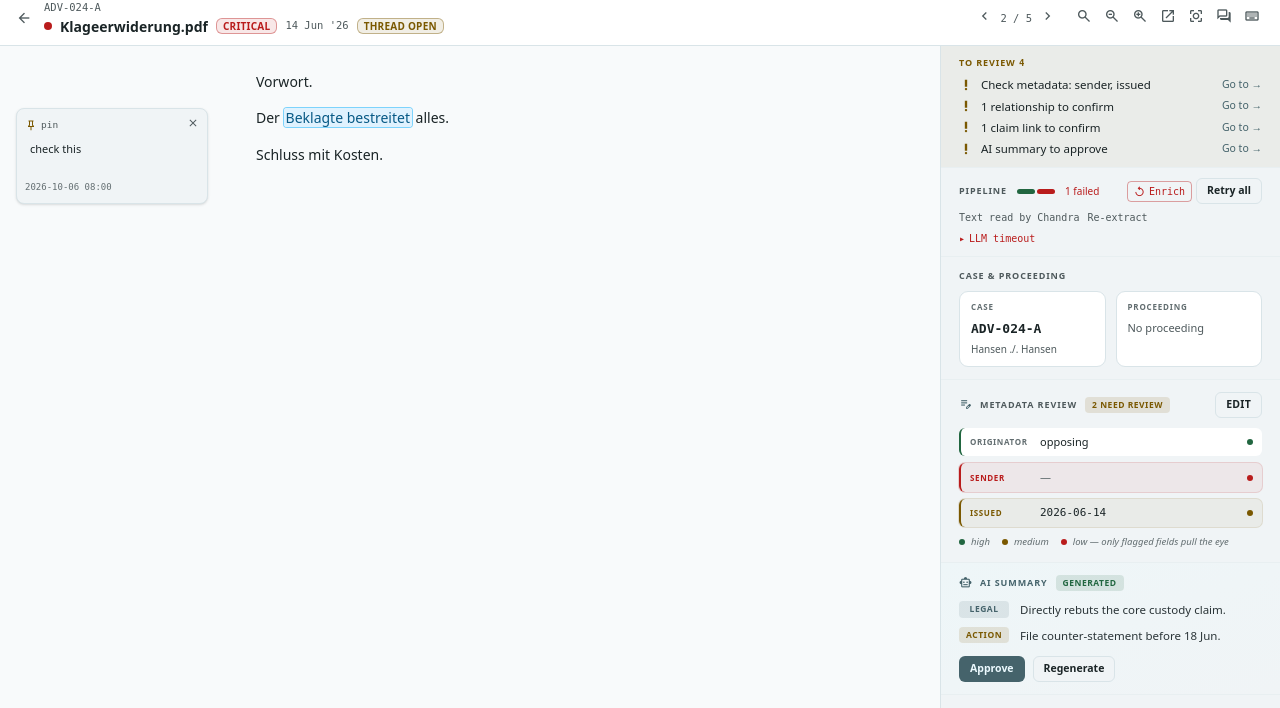
it: clicking a highlight selects its spine row; a pin can be added and removed
This screenshot has width=1280, height=708.
Click the text "Beklagte bestreitet" at coordinates (348, 118), box [284,108,412,127]
(page scrolled)
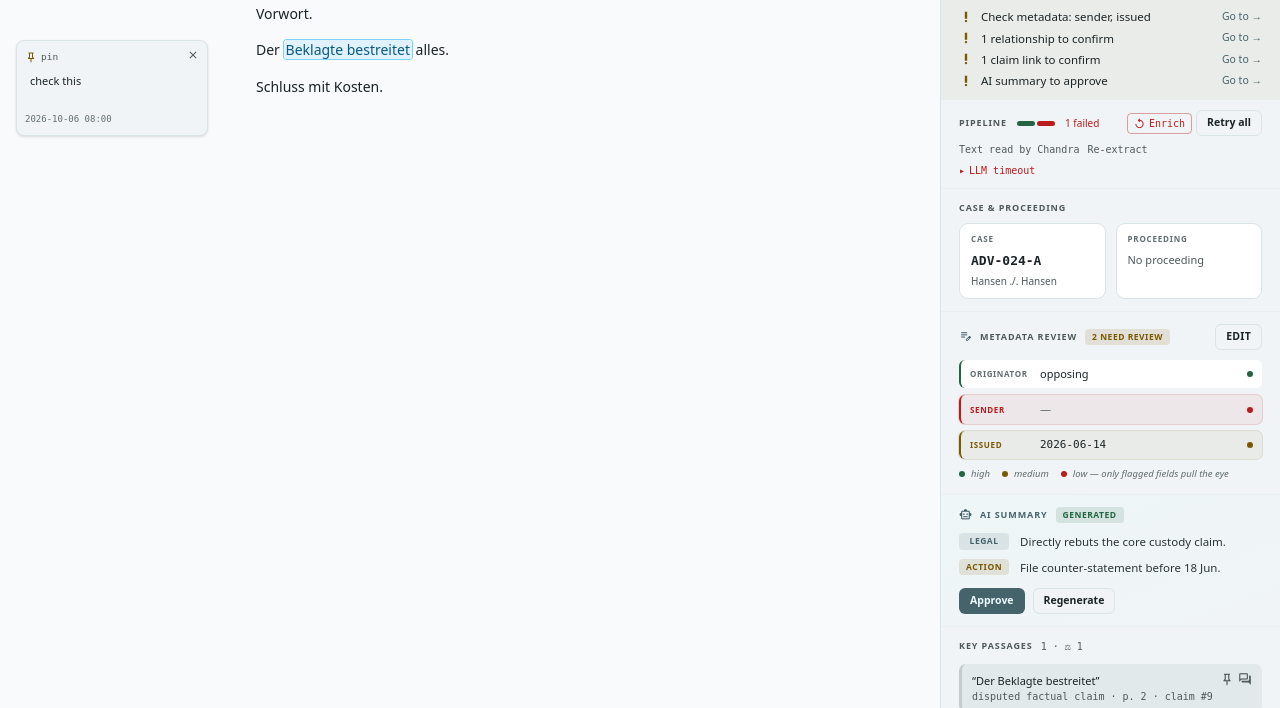
Expected: the button "Der Beklagte bestreitet" is marked as current, [972,672,1216,704]
Click the button named "Pin this passage" at coordinates (1227, 681), box [1220,672,1234,690]
(page scrolled)
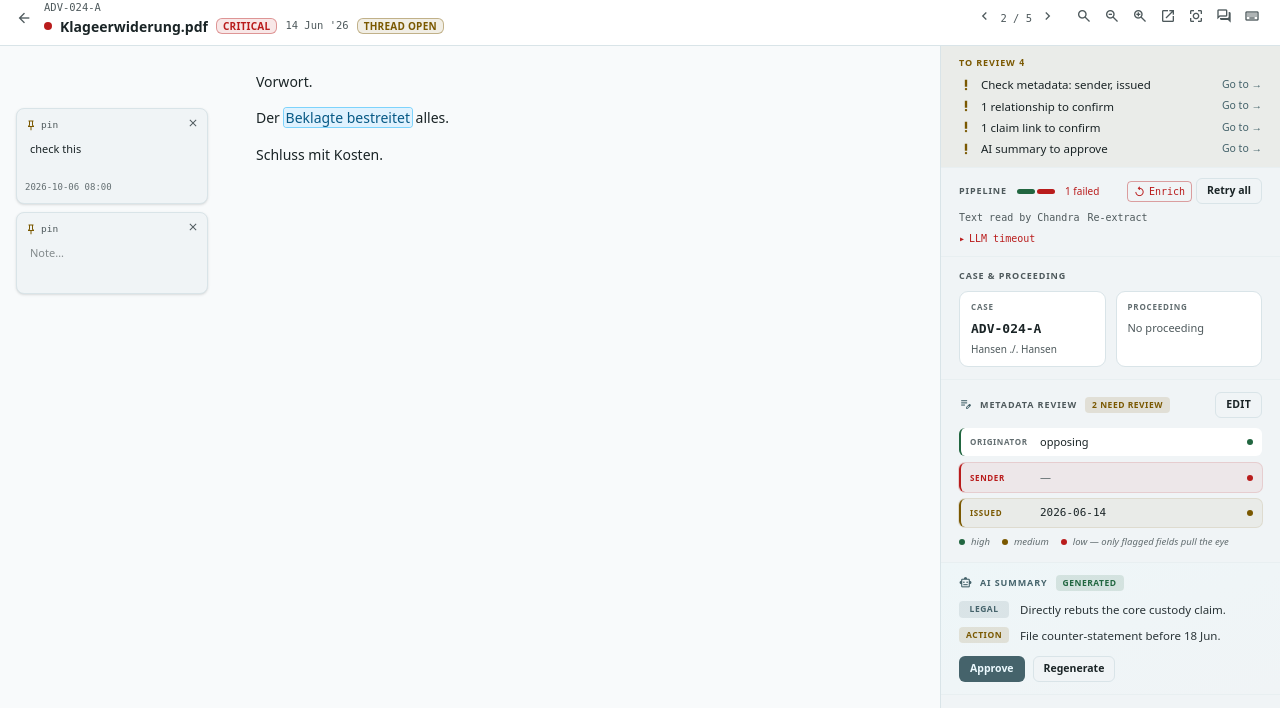
Expected: the number of text boxes named "Pin note" is 2, [25,138,199,177]; [25,242,199,281]
Click the 1st button named "Delete pin" at coordinates (193, 125), box [187,117,199,134]
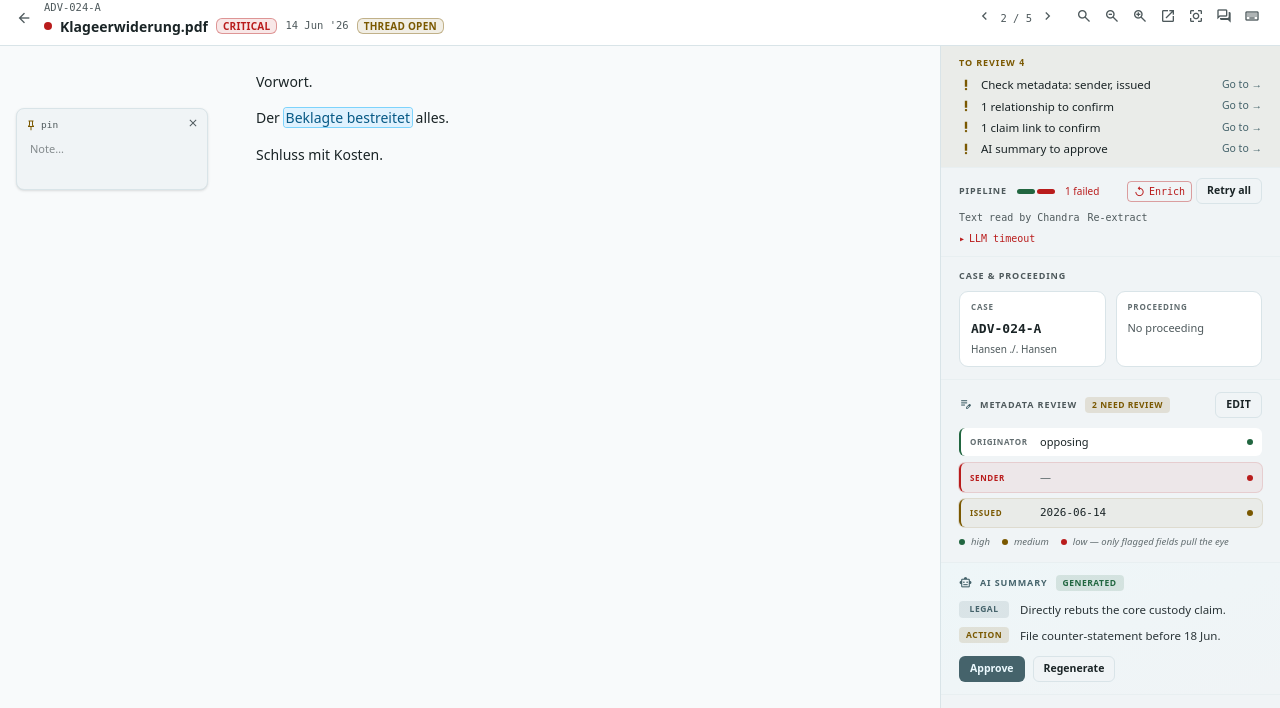
Expected: the number of text boxes named "Pin note" is 1, [25,138,199,177]
